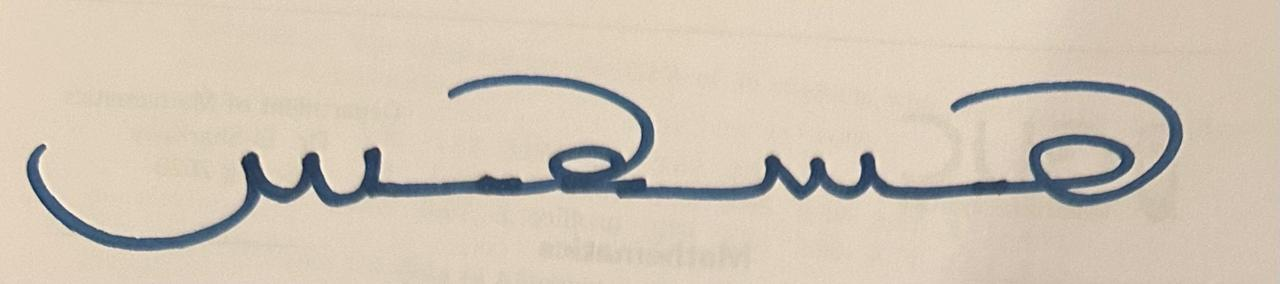jeem: (899, 29, 1225, 253), (417, 29, 683, 245)
sheen: (13, 33, 408, 270), (693, 43, 893, 253)
